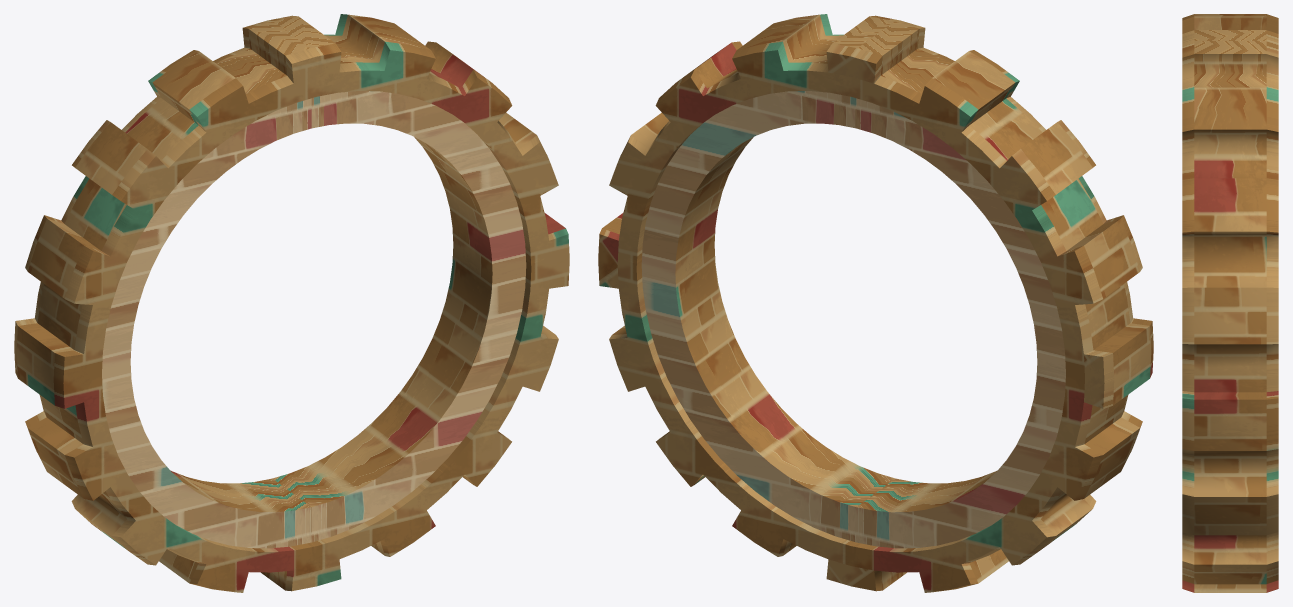
The model's file is MayanGear.fbx.
3 views of the same model, side by side, from view 1: azimuth 30°, elevation 25°; view 2: azimuth 150°, elevation 25°; view 3: azimuth 270°, elevation 25° (orthographic). The views are drawn at different scales.
Parts seen in each view (by area): view 1: Circle.022; view 2: Circle.022; view 3: Circle.022.
Part boxes in pixels (left/top/right/bottom): Circle.022: left=14, top=14, right=569, bottom=592; Circle.022: left=598, top=14, right=1153, bottom=592; Circle.022: left=1182, top=14, right=1278, bottom=592.
Size of the model in its own units: 6593 by 6593 by 1095.
Materials: 2 (2 with a texture image).
